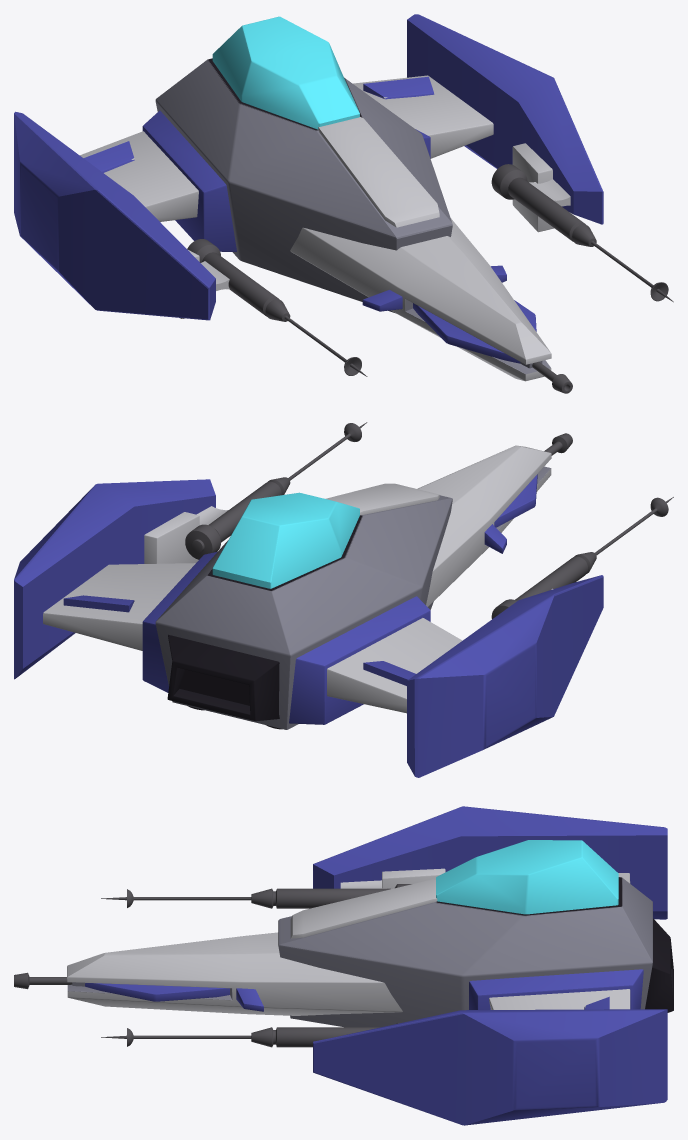
The model's file is space_ship.gltf.
The picture shows the model from 3 angles, top to bottom: view 1: azimuth 30°, elevation 25°; view 2: azimuth 150°, elevation 25°; view 3: azimuth 270°, elevation 25°; orthographic projection. The views are drawn at different scales.
Visible parts, largest first — view 1: Ship; view 2: Ship; view 3: Ship.
Part boxes in pixels (<box>): Ship: <box>14,14,673,393</box>; Ship: <box>14,422,673,777</box>; Ship: <box>14,806,673,1125</box>.
Size of the model in its own units: 3.32 by 1.24 by 4.28.
1 material, 1 textured.
